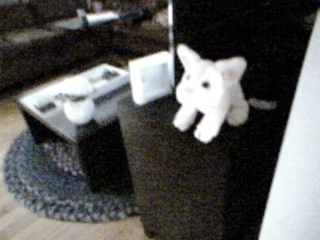piggy: (170, 42, 250, 145)
